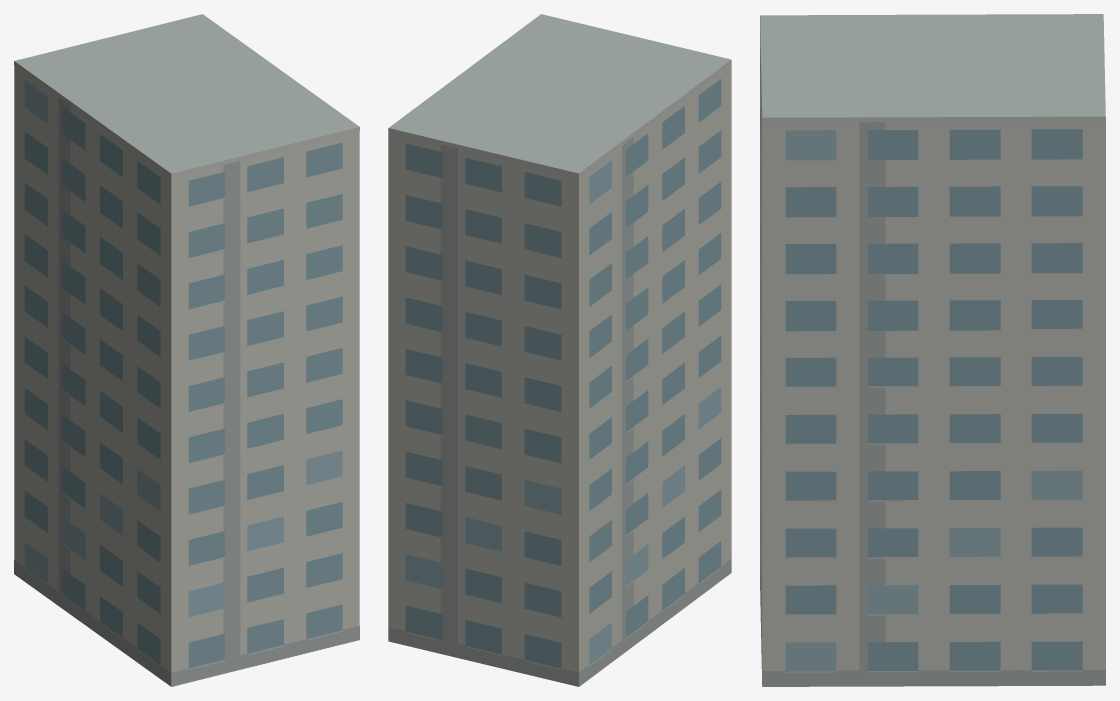
Rendered from residential-7ae17f32-b16c-455d-b073-be196f2d5591.glb.
3 views of the same model, side by side, from view 1: azimuth 30°, elevation 25°; view 2: azimuth 150°, elevation 25°; view 3: azimuth 270°, elevation 25° (orthographic). The views are drawn at different scales.
Parts seen in each view (by area): view 1: residential-7ae17f32-b16c-455d-b073-be196f2d5591.tmp; view 2: residential-7ae17f32-b16c-455d-b073-be196f2d5591.tmp; view 3: residential-7ae17f32-b16c-455d-b073-be196f2d5591.tmp.
Part boxes in pixels (x1,y1,x2,y2): residential-7ae17f32-b16c-455d-b073-be196f2d5591.tmp: (14,14,359,686); residential-7ae17f32-b16c-455d-b073-be196f2d5591.tmp: (388,14,731,686); residential-7ae17f32-b16c-455d-b073-be196f2d5591.tmp: (760,14,1105,686).
Bounding box in the file's own units: 11.35 × 29 × 15.98.
